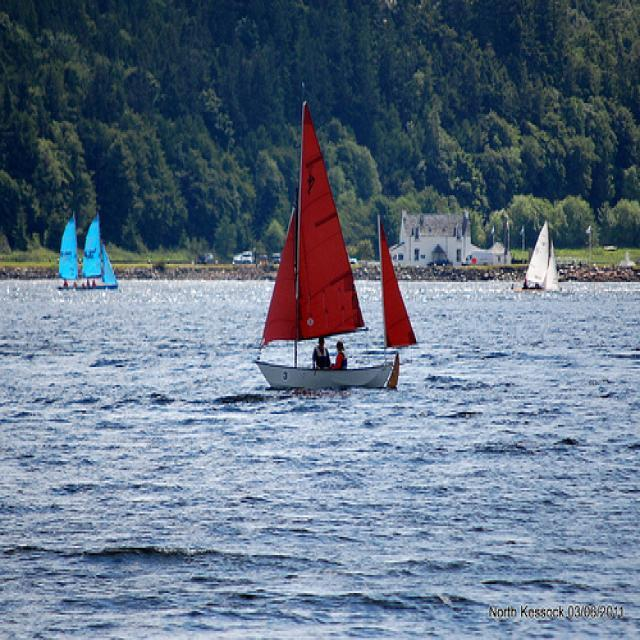Ship: (260, 88, 416, 401), (60, 210, 123, 298), (524, 216, 567, 296)
